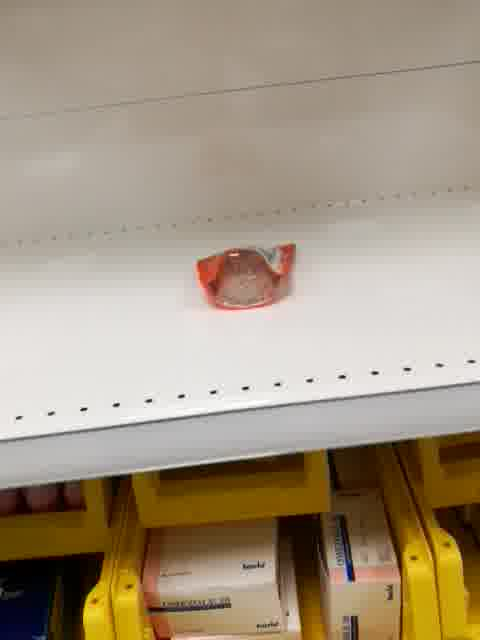whitechia: (194, 239, 298, 314)
